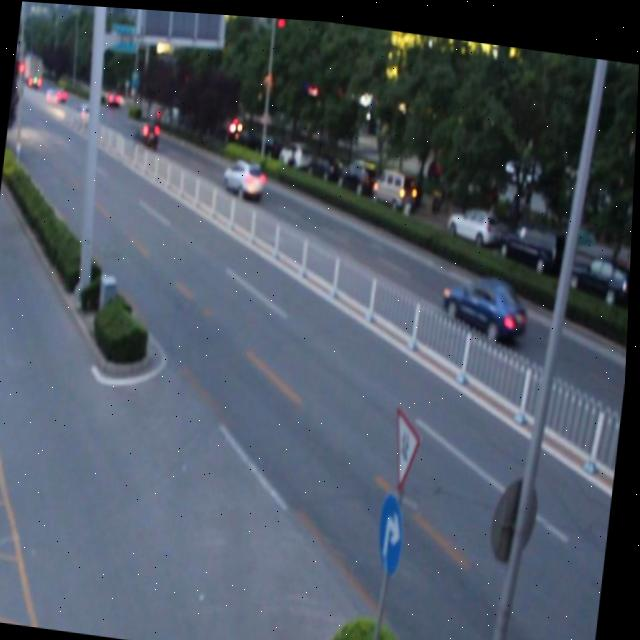car: (439, 263, 531, 340), (222, 151, 268, 195)
